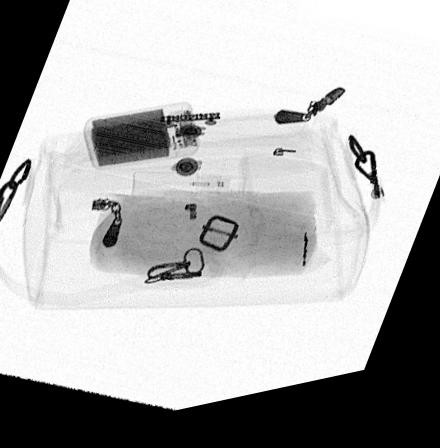Powerbank: (80, 108, 202, 175)
